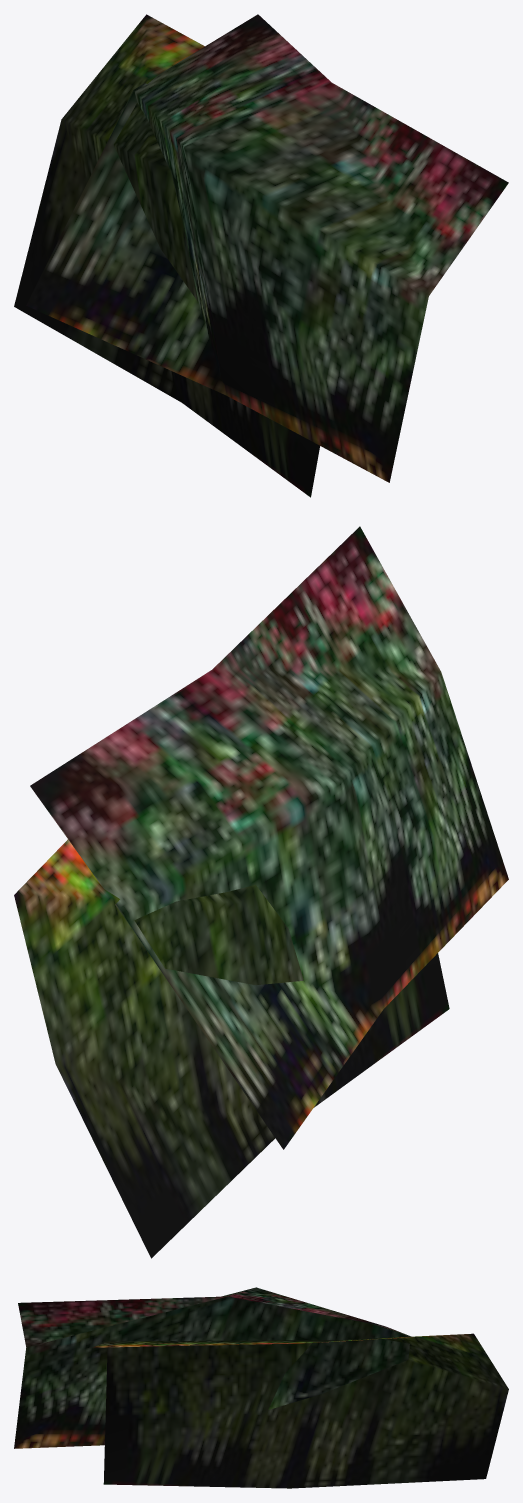
The picture shows the model from 3 angles, top to bottom: view 1: azimuth 30°, elevation 25°; view 2: azimuth 150°, elevation 25°; view 3: azimuth 270°, elevation 25°; orthographic projection. The views are drawn at different scales.
Parts seen in each view (by area): view 1: yz10; view 2: yz10; view 3: yz10.
Boxes of the visible parts, x1,y1,x2,y2 form: yz10: (14, 14, 508, 497); yz10: (14, 526, 508, 1258); yz10: (14, 1287, 508, 1488).
Bounding box in the file's own units: 62.39 × 88.54 × 172.
